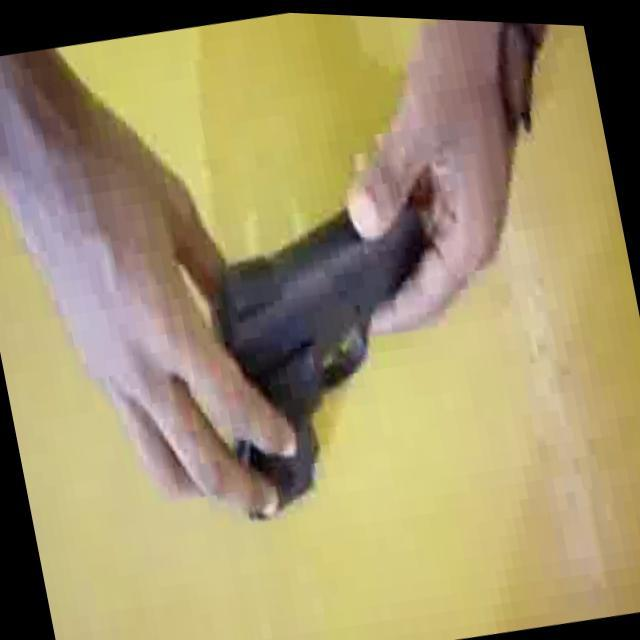weapon: (164, 150, 493, 532)
